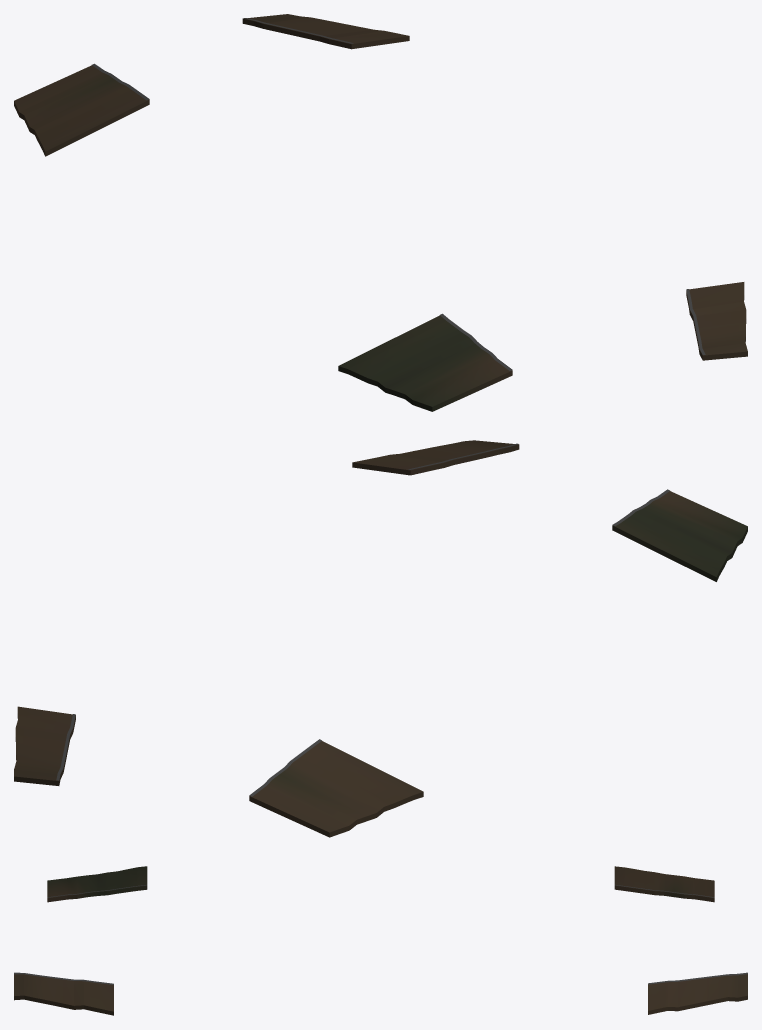
The model's file is fh_mech_attacker_t5.glb.
3 renders of one model, top to bottom at view 1: azimuth 30°, elevation 25°; view 2: azimuth 150°, elevation 25°; view 3: azimuth 270°, elevation 25°, orthographic. The views are drawn at different scales.
Visible parts, largest first — view 1: flap_r, flap_l, slat_r, slat_l; view 2: flap_l, flap_r, slat_l, slat_r; view 3: slat_l, slat_r, flap_l, flap_r.
Boxes of the visible parts, x1,y1,x2,y2 form: flap_r: [338, 313, 512, 411]; flap_l: [14, 63, 149, 156]; slat_r: [686, 282, 747, 360]; slat_l: [242, 14, 409, 49]; flap_l: [249, 739, 423, 837]; flap_r: [612, 489, 747, 581]; slat_l: [14, 706, 75, 785]; slat_r: [352, 440, 519, 475]; slat_l: [648, 972, 747, 1014]; slat_r: [14, 972, 113, 1015]; flap_l: [614, 866, 714, 902]; flap_r: [47, 866, 147, 902].
Bounding box in the file's own units: 0.319 × 0.0285 × 0.66.
